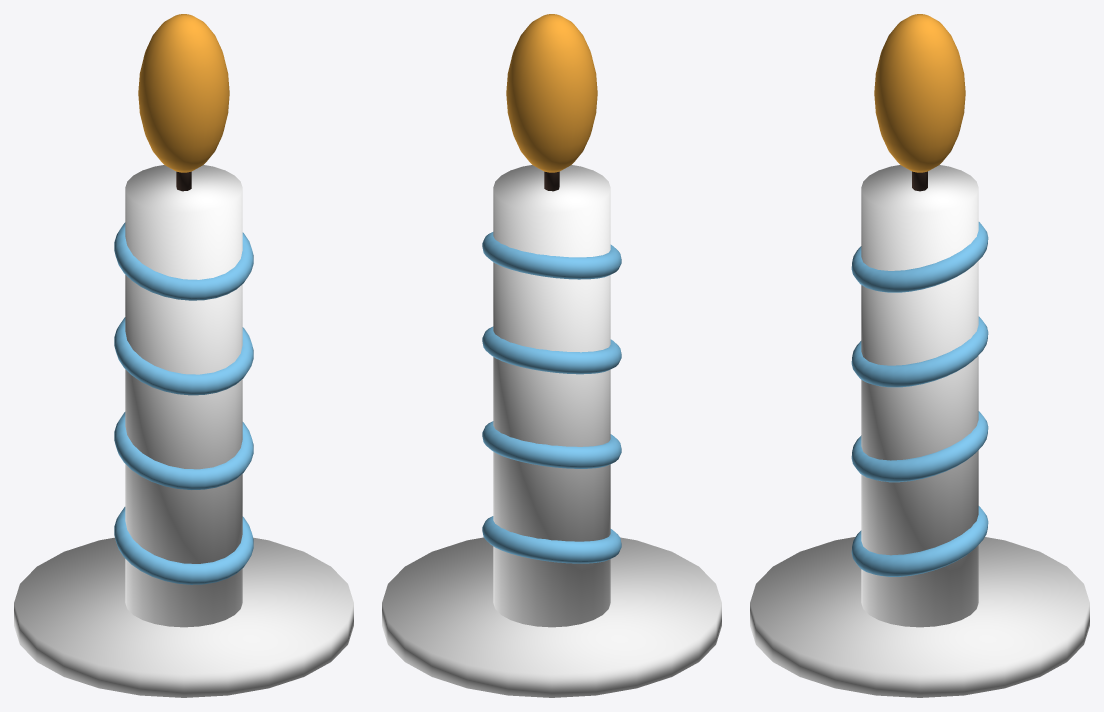
File: Candle.fbx
3 views of the same model, side by side, from view 1: azimuth 30°, elevation 25°; view 2: azimuth 150°, elevation 25°; view 3: azimuth 270°, elevation 25° (orthographic).
Visible parts, largest first — view 1: CandleBody, Flame; view 2: CandleBody, Flame; view 3: CandleBody, Flame.
Boxes of the visible parts, x1=… form: CandleBody: x1=14, y1=165, x2=353, y2=697; Flame: x1=138, y1=14, x2=229, y2=172; CandleBody: x1=382, y1=165, x2=721, y2=697; Flame: x1=506, y1=14, x2=597, y2=172; CandleBody: x1=750, y1=165, x2=1089, y2=697; Flame: x1=874, y1=14, x2=965, y2=172.
Bounding box in the file's own units: 0.52 × 1.03 × 0.52.
